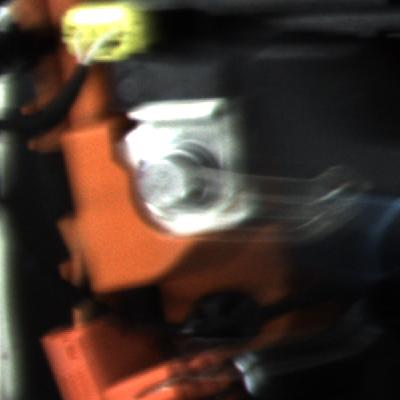nut_b: (132, 136, 229, 224)
